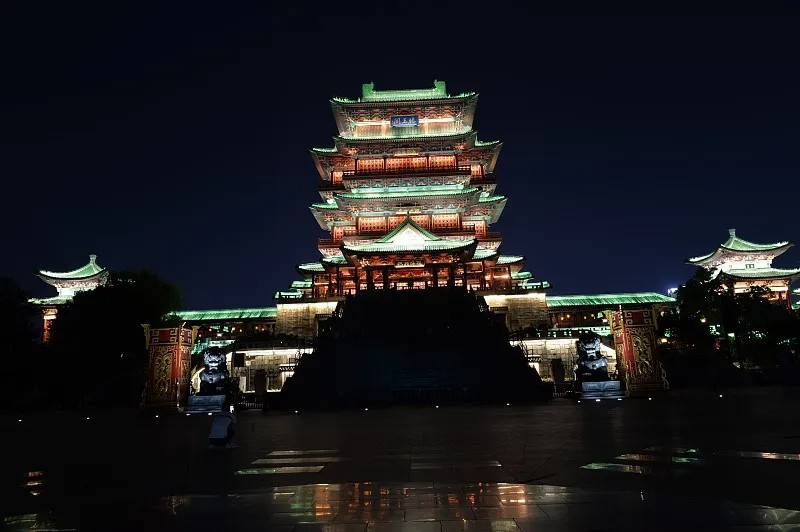Teng: (273, 80, 551, 296)
